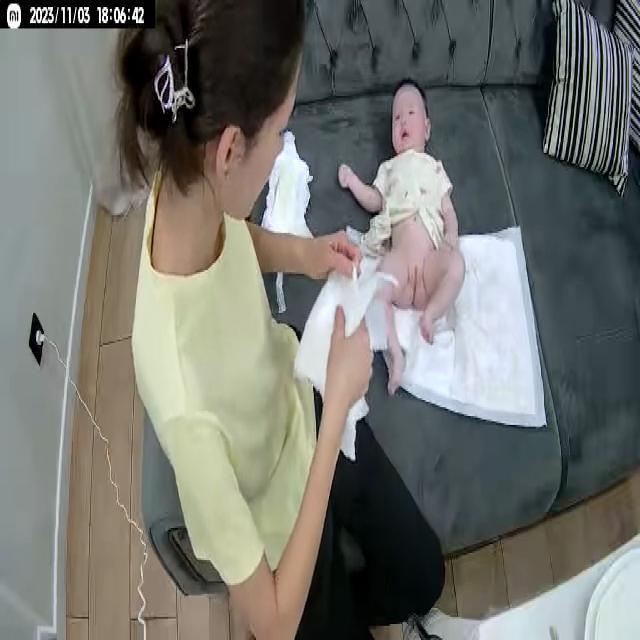baby: (334, 76, 478, 398)
